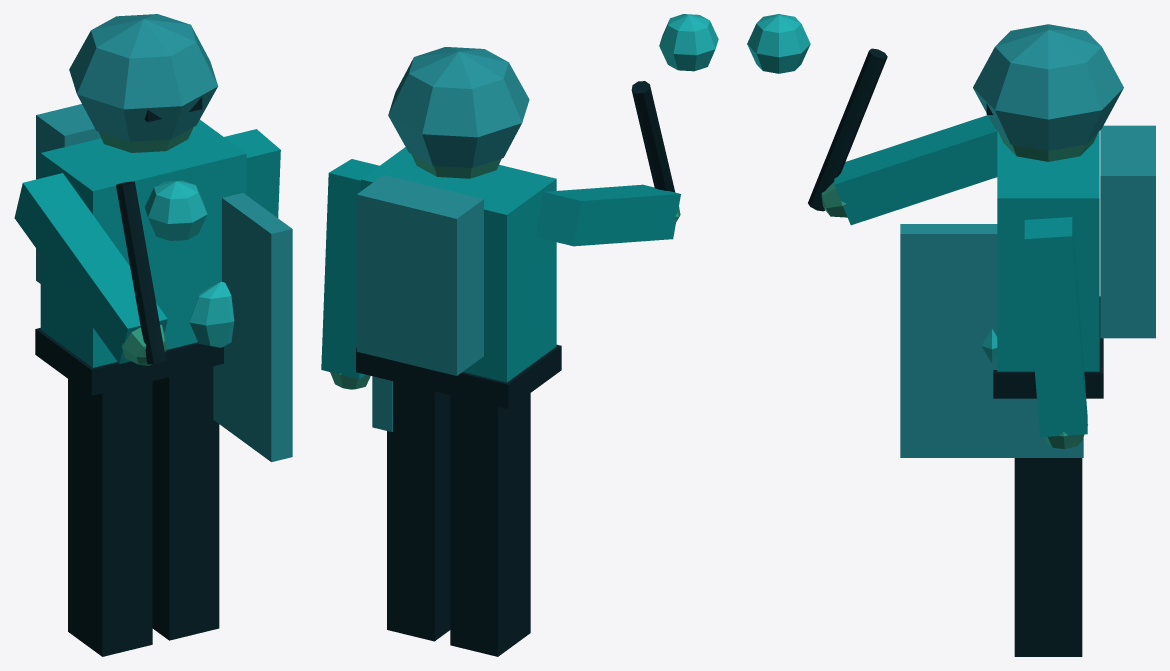
File: SM_Champion_9023_Byte.glb
3 views of the same model, side by side, from view 1: azimuth 30°, elevation 25°; view 2: azimuth 150°, elevation 25°; view 3: azimuth 270°, elevation 25° (orthographic). The views are drawn at different scales.
Visible parts, largest first — view 1: SM_Champion_9023_Byte; view 2: SM_Champion_9023_Byte; view 3: SM_Champion_9023_Byte.
Boxes of the visible parts, left/top/right/bottom form: SM_Champion_9023_Byte: left=14, top=14, right=292, bottom=656; SM_Champion_9023_Byte: left=321, top=14, right=718, bottom=656; SM_Champion_9023_Byte: left=747, top=14, right=1155, bottom=656.
Bounding box in the file's own units: 0.7158 × 1.61 × 0.995.
